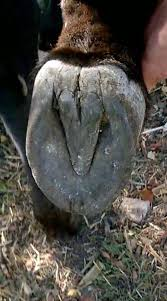horsesole: (25, 89, 137, 218)
